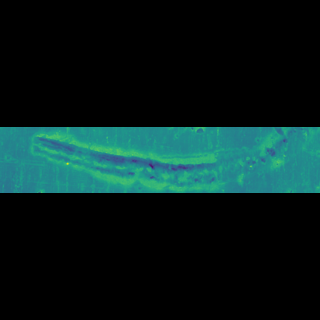Loch: (28, 153, 320, 166)
